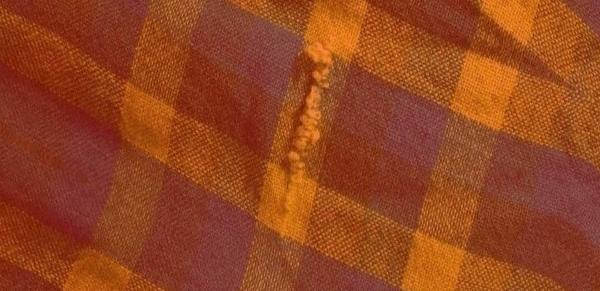knot: (283, 43, 335, 196)
